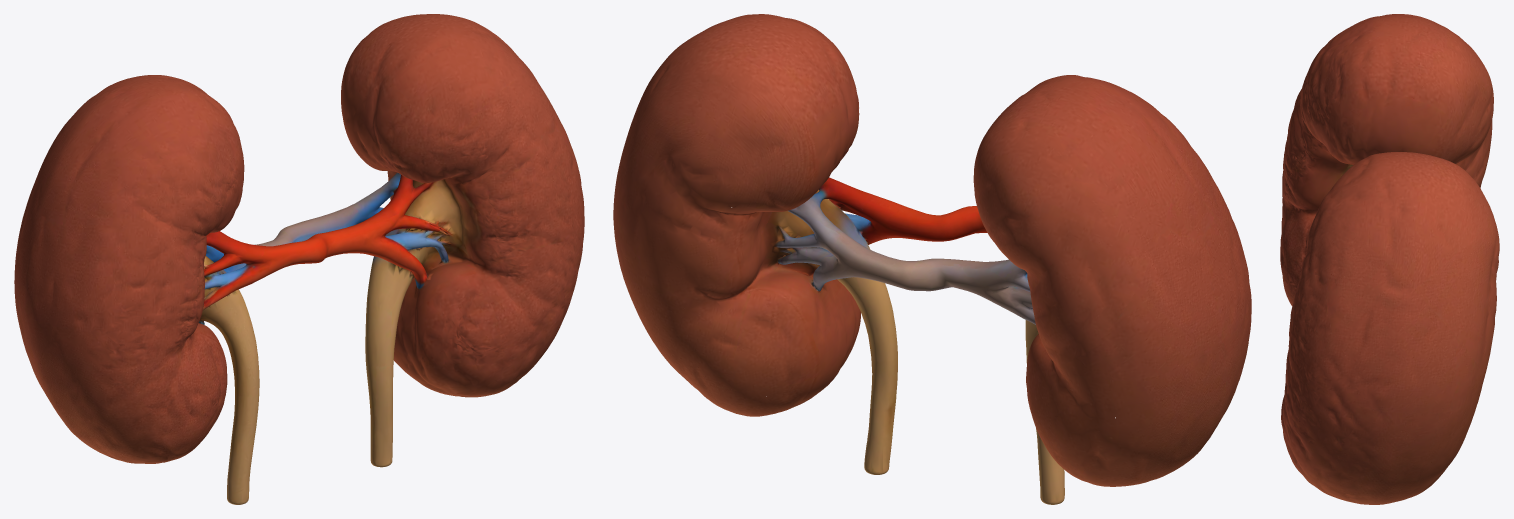
File: kidneys.glb
3 views of the same model, side by side, from view 1: azimuth 30°, elevation 25°; view 2: azimuth 150°, elevation 25°; view 3: azimuth 270°, elevation 25° (orthographic). The views are drawn at different scales.
Parts seen in each view (by area): view 1: tripo_node_e5de9656-5b36-4996-8f10-3690a202b494; view 2: tripo_node_e5de9656-5b36-4996-8f10-3690a202b494; view 3: tripo_node_e5de9656-5b36-4996-8f10-3690a202b494.
Boxes of the visible parts, x1,y1,x2,y2 form: tripo_node_e5de9656-5b36-4996-8f10-3690a202b494: [14, 14, 584, 504]; tripo_node_e5de9656-5b36-4996-8f10-3690a202b494: [613, 14, 1251, 504]; tripo_node_e5de9656-5b36-4996-8f10-3690a202b494: [1280, 14, 1499, 504].
Size of the model in its own units: 0.9793 by 0.7199 by 0.3718.
Materials: 1 (1 with a texture image).
